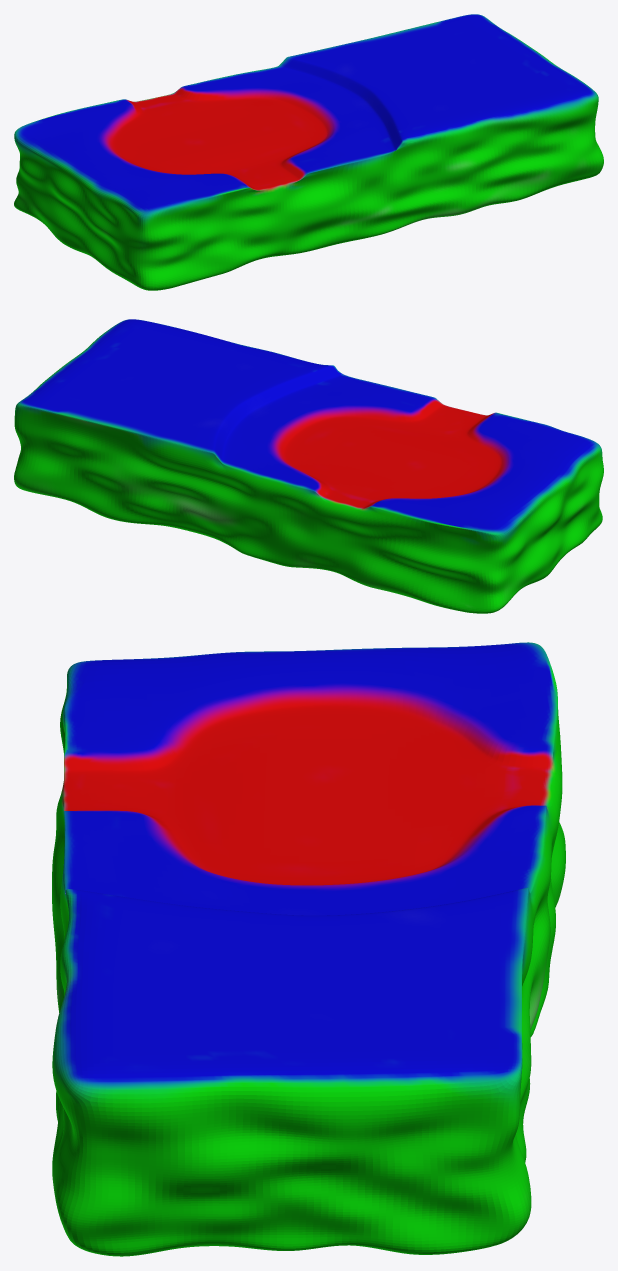
Rendered from level_1_platform_5.fbx.
3 views of the same model, one above another, from view 1: azimuth 30°, elevation 25°; view 2: azimuth 150°, elevation 25°; view 3: azimuth 270°, elevation 25° (orthographic). The views are drawn at different scales.
Parts seen in each view (by area): view 1: Cube.006; view 2: Cube.006; view 3: Cube.006.
Boxes of the visible parts, x1=… form: Cube.006: x1=14, y1=14, x2=603, y2=290; Cube.006: x1=14, y1=319, x2=603, y2=613; Cube.006: x1=52, y1=642, x2=565, y2=1256.
Bounding box in the file's own units: 1415 × 3063 × 571.
